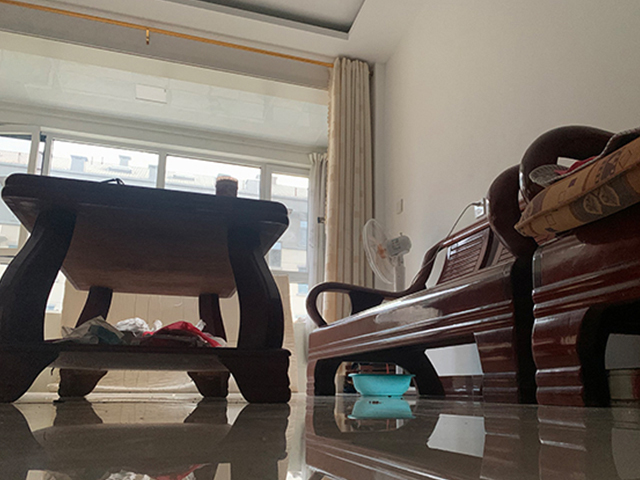curtain: (326, 54, 374, 327)
sofa: (302, 162, 533, 404), (513, 123, 640, 410)
table: (1, 172, 292, 404)
